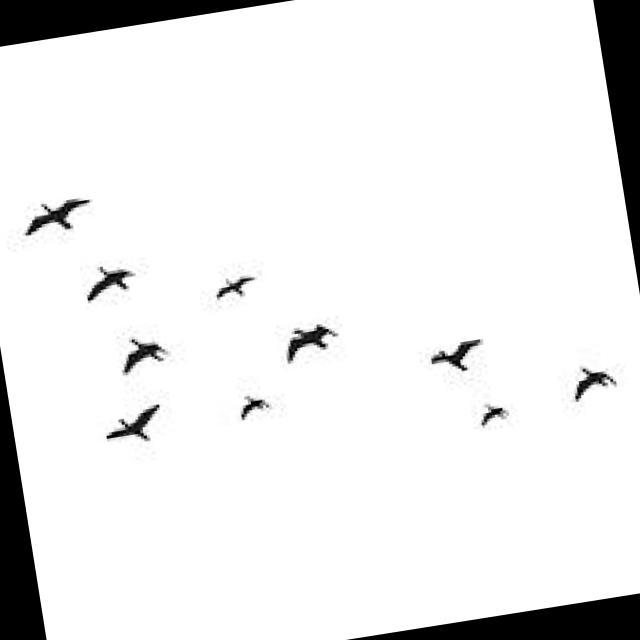bird: (16, 189, 105, 241), (101, 401, 174, 455), (277, 314, 347, 370), (77, 253, 144, 308), (115, 326, 174, 380), (425, 335, 490, 381), (568, 358, 625, 410), (207, 267, 266, 309), (234, 386, 277, 422), (474, 397, 517, 433)
